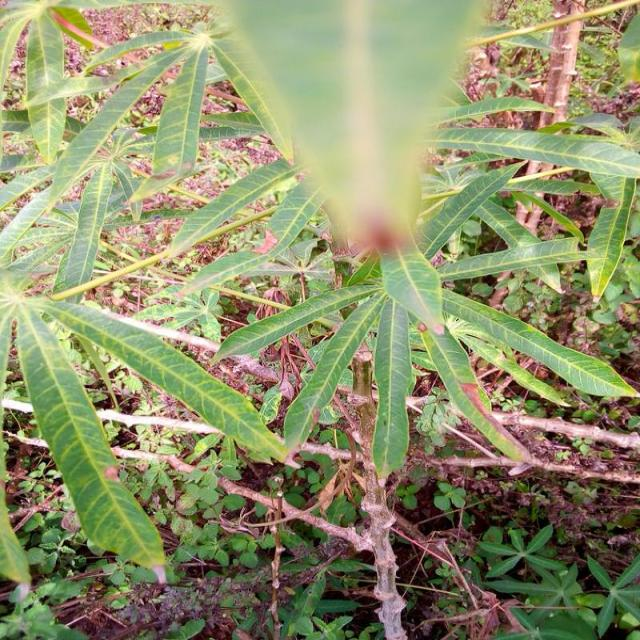cassava leaf: (37, 294, 298, 468), (14, 294, 168, 584)
